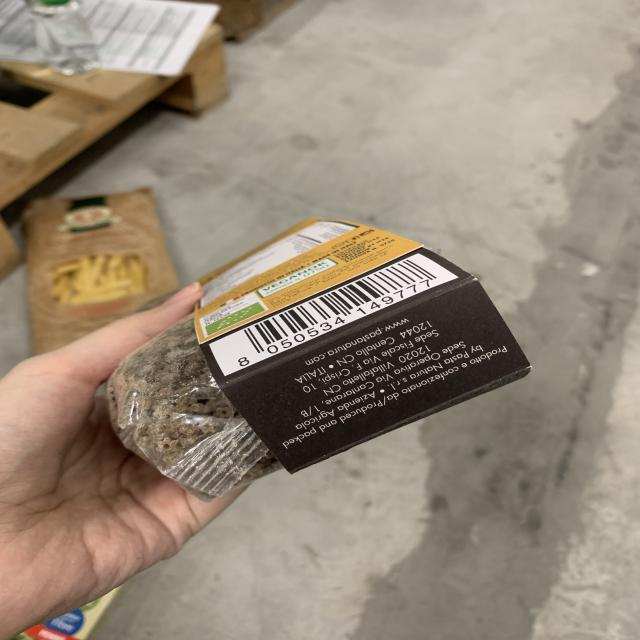object_name: (135, 264, 501, 451)
